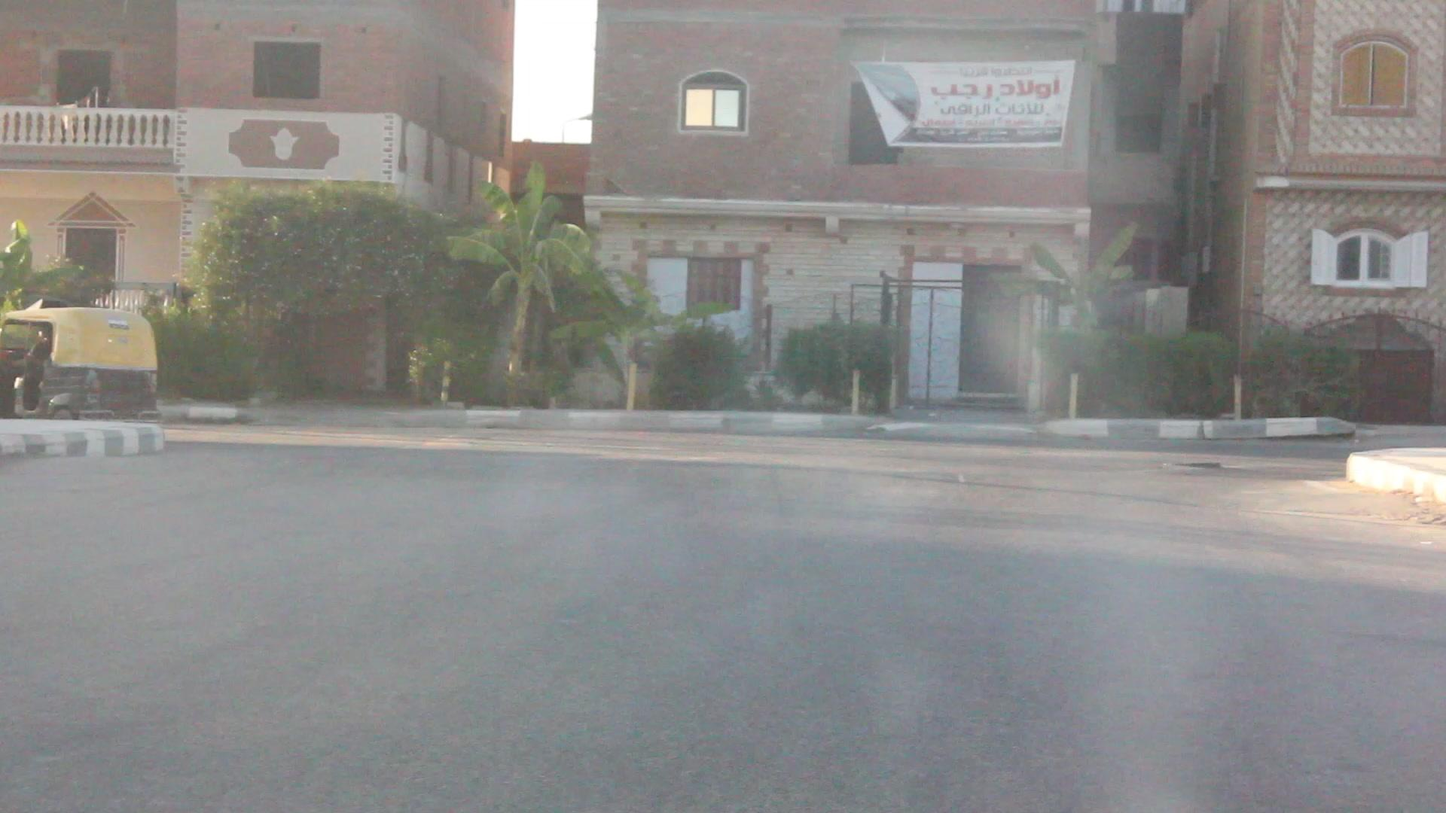Bump: (0, 453, 1430, 521)
